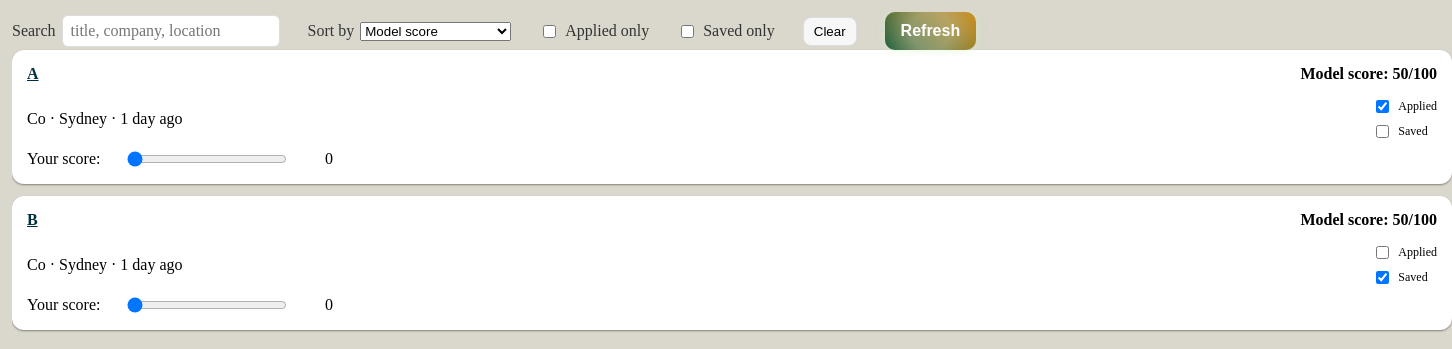
SavedList filters OR-logic › shows union of applied and saved when both toggles are on (OR)
Check: the link "A" is shown, box [27,65,39,93]
Check: the link "B" is shown, box [27,211,38,239]
// Applied only
Click the checkbox labelled "Applied only".
click(550, 31)  # box [543,24,556,38]
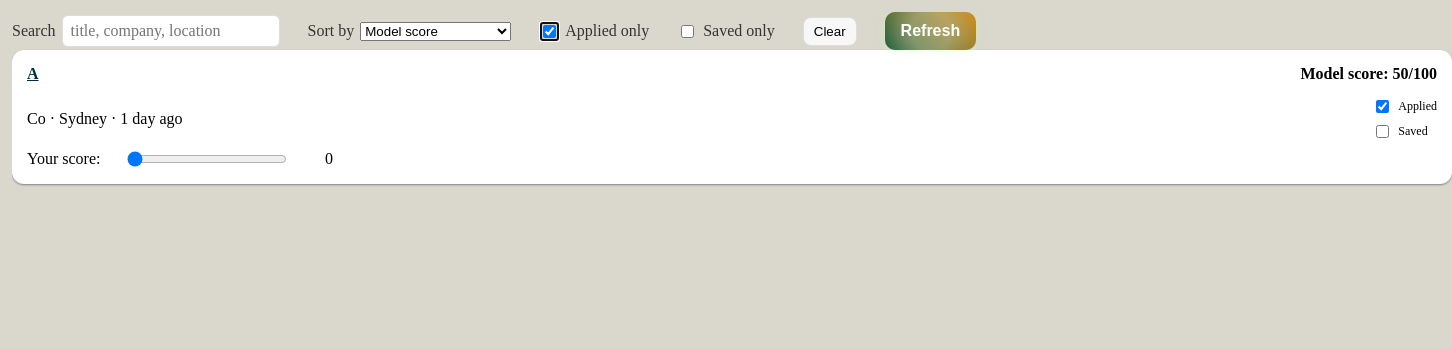
Check: the link "A" is shown, box [27,65,39,93]
// Saved only
Click the checkbox labelled "Applied only".
click(550, 31)  # box [543,24,556,38]
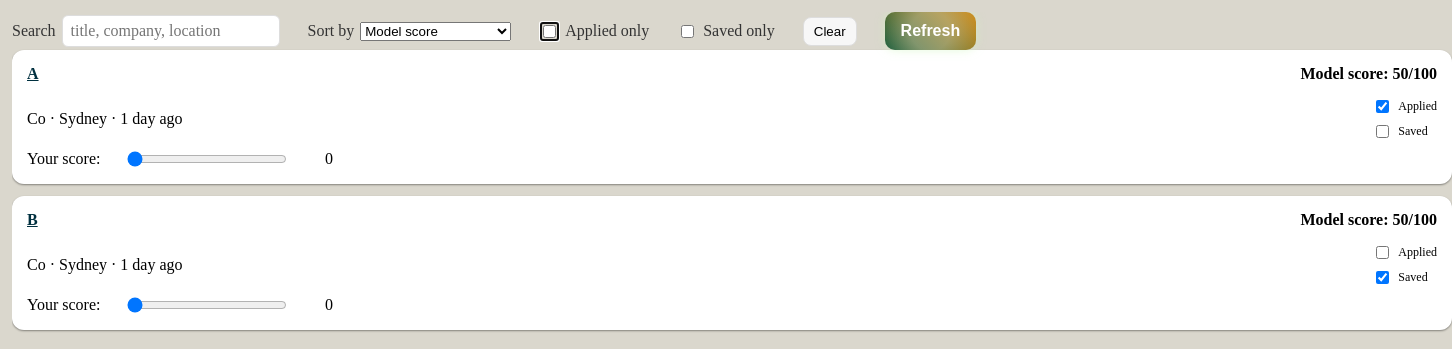
Click the checkbox labelled "Saved only".
click(688, 31)  # box [681,24,694,38]
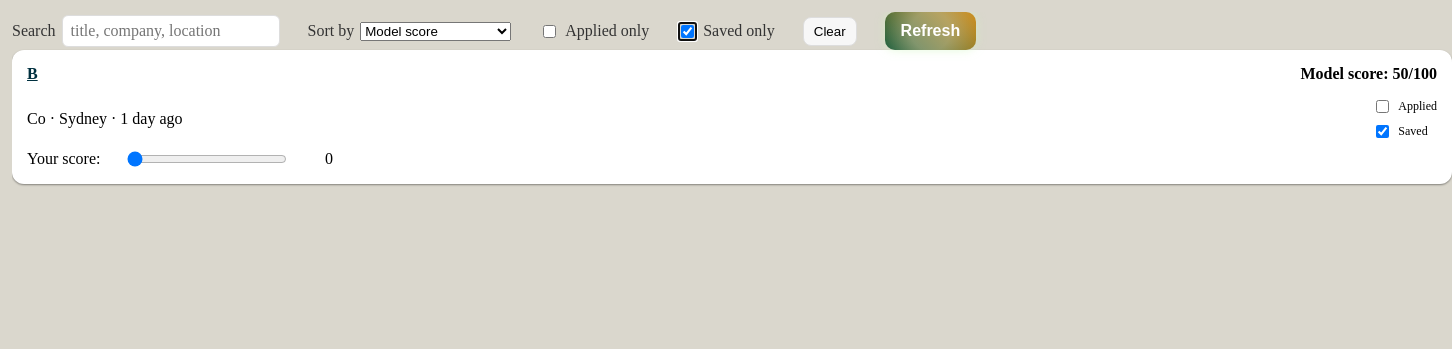
Check: the link "B" is shown, box [27,65,38,93]
// Both (OR)
Click the checkbox labelled "Applied only".
click(550, 31)  # box [543,24,556,38]
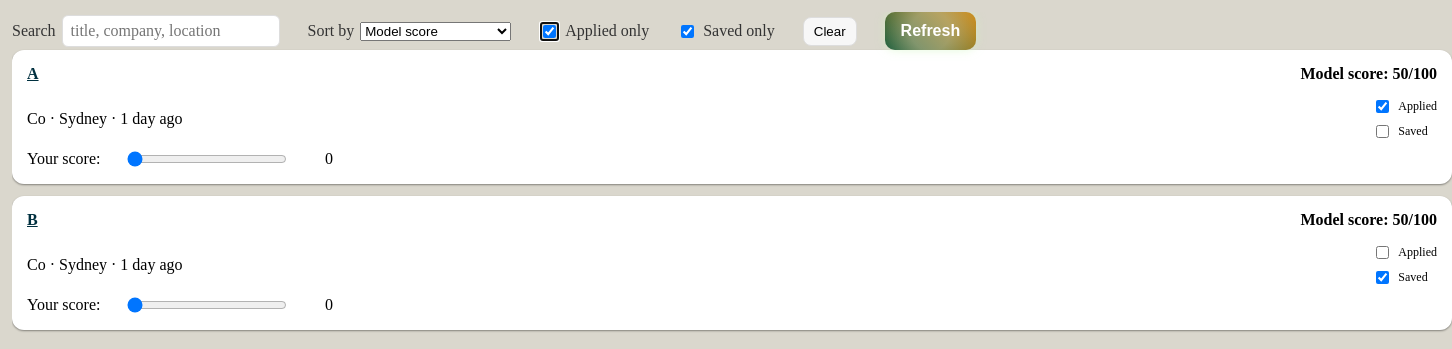
Check: the link "B" is shown, box [27,211,38,239]
Check: the link "A" is shown, box [27,65,39,93]
